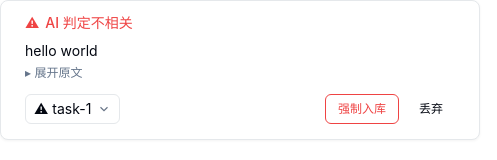
it: Overlay state machine › expand/collapse text in fallback mode
Click the button "▸ 展开原文" at coordinates (54, 73), box [25,65,82,81]
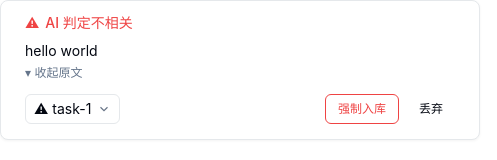
Expected: the button "▾ 收起原文" is shown
Click the button "▾ 收起原文" at coordinates (54, 73), box [25,65,82,81]
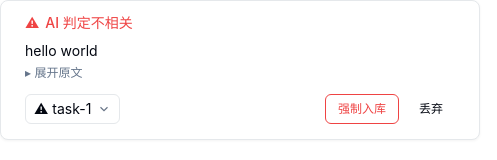
Expected: the button "▸ 展开原文" is shown, [25,65,82,81]
